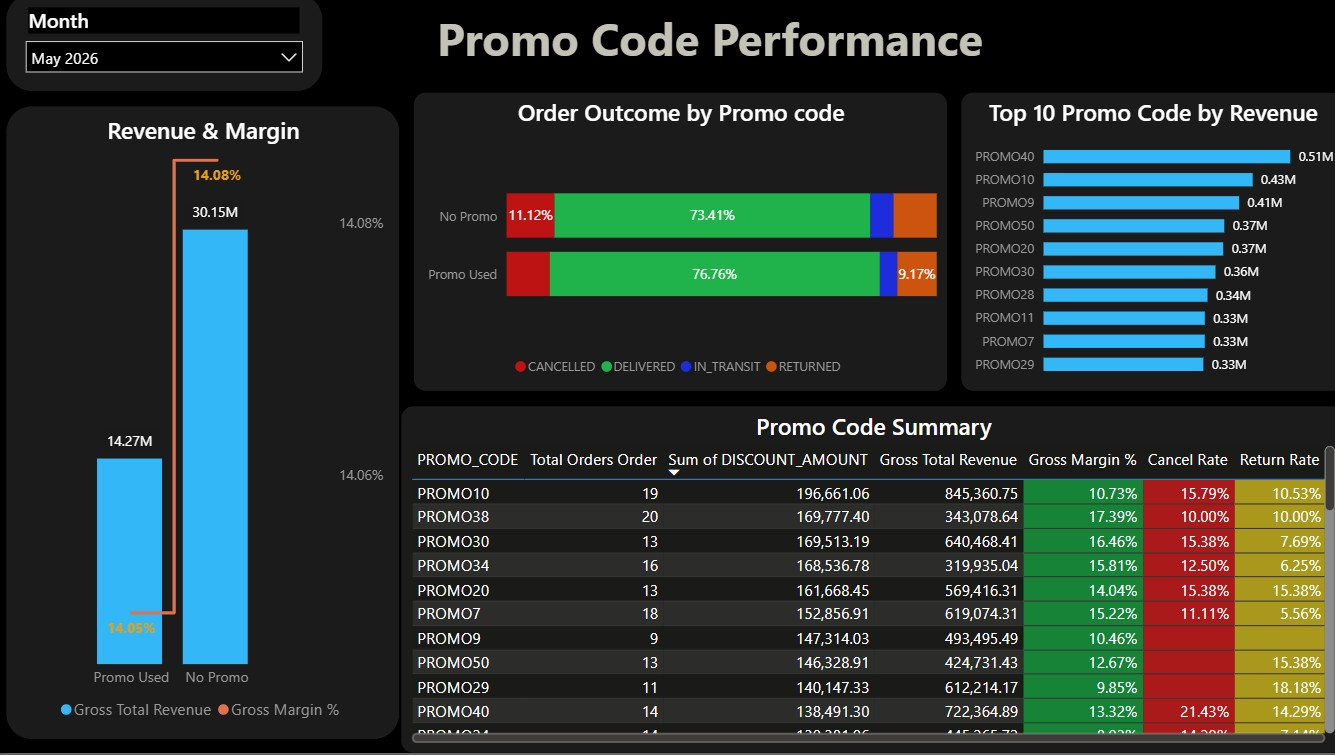

What the dashboard file says about the page in this screenshot:
{"tool":"powerbi","page":{"name":"Promo Code Performance","canvas":[1280,720],"ordinal":2},"visuals":[{"type":"hundredPercentStackedBarChart","title":"Order Outcome by Promo code","fields":{"Category":["ORDERS_TIER1.Promo Status"],"Y":["CountNonNull(ORDERS_TIER1.CURRENT_STATUS)"],"Series":["ORDERS_TIER1.CURRENT_STATUS"]},"box":[397.9,93.3,506.3,284],"z":0},{"type":"clusteredBarChart","title":"Top 10 Promo Code by Revenue","fields":{"Y":["ORDER_ITEMS_TIER1.Net Revenue"],"Category":["ORDERS_TIER1.PROMO_CODE"]},"box":[916.6,93.3,363.6,284],"z":1000},{"type":"lineStackedColumnComboChart","title":"Revenue & Margin","fields":{"Y2":["ORDER_ITEMS_TIER1.Gross Margin %"],"Category":["ORDERS_TIER1.Promo Status"],"Y":["ORDER_ITEMS_TIER1.Gross Total Revenue"]},"box":[12.3,107,373.2,601],"z":2000},{"type":"tableEx","title":"Promo Code Summary","fields":{"Values":["ORDERS_TIER1.PROMO_CODE","ORDERS_TIER1.Total Orders Order","Sum(ORDER_ITEMS_TIER1.DISCOUNT_AMOUNT)","ORDER_ITEMS_TIER1.Gross Total Revenue","ORDER_ITEMS_TIER1.Gross Margin %","ORDERS_TIER1.Cancel Rate","ORDERS_TIER1.Return Rate"]},"box":[385.6,391.1,894.7,329.3],"z":2001},{"type":"textbox","box":[312.9,0,732.8,93.3],"z":2002},{"type":"slicer","fields":{"Values":["Date.MonthName"]},"box":[12.3,0,300.5,93.3],"z":2003}]}

Visuals, with their boxes in screenshot pixels (x1, y1, x2, y2), scaled from the page's 1280x720 canvas onto the 1335x755 screenshot:
"Order Outcome by Promo code" hundredPercentStackedBarChart: 415 98 943 396
"Top 10 Promo Code by Revenue" clusteredBarChart: 956 98 1334 396
"Revenue & Margin" lineStackedColumnComboChart: 13 112 402 742
"Promo Code Summary" tableEx: 402 410 1334 754
textbox: 326 0 1091 98
slicer - Date.MonthName: 13 0 326 98
